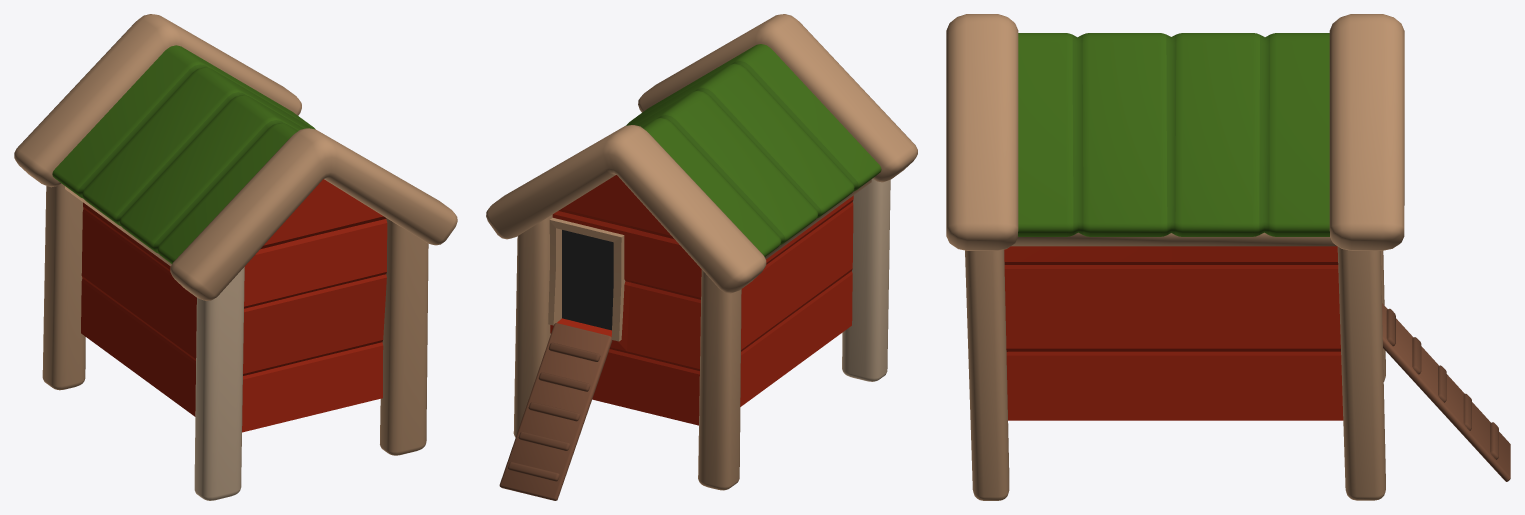
File: Building11.fbx
3 views of the same model, side by side, from view 1: azimuth 30°, elevation 25°; view 2: azimuth 150°, elevation 25°; view 3: azimuth 270°, elevation 25° (orthographic). The views are drawn at different scales.
Visible parts, largest first — view 1: Cube.024; view 2: Cube.024; view 3: Cube.024.
Part boxes in pixels (x1,y1,x2,y2): Cube.024: (14,14,457,500); Cube.024: (486,14,917,500); Cube.024: (946,14,1510,500).
Bounding box in the file's own units: 2.78 × 4.08 × 3.37.
